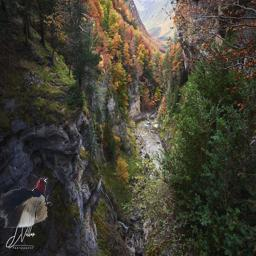Woodpecker: (0, 174, 53, 228)
